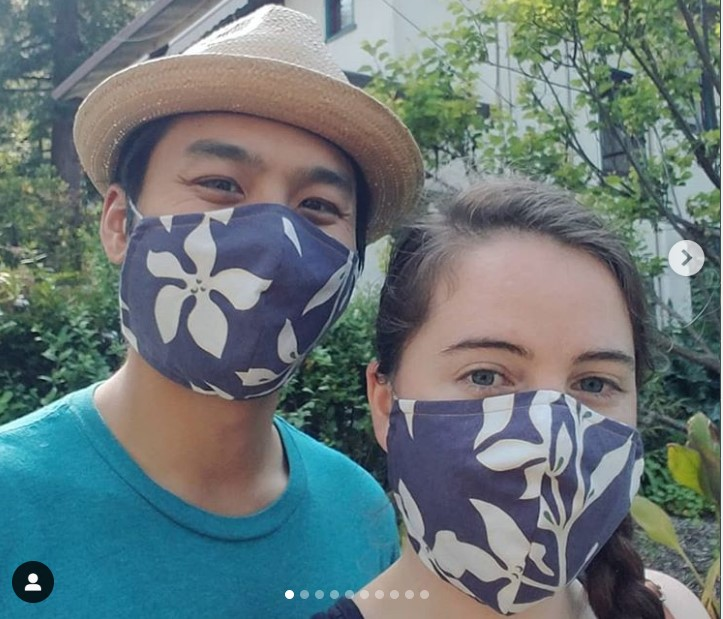face_with_mask: (79, 9, 422, 413), (363, 200, 652, 616)
